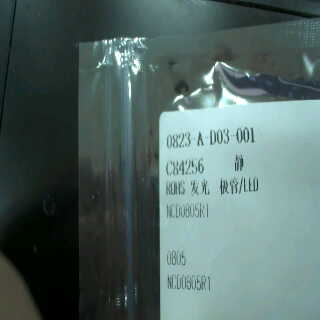LED: (189, 175, 263, 197)
